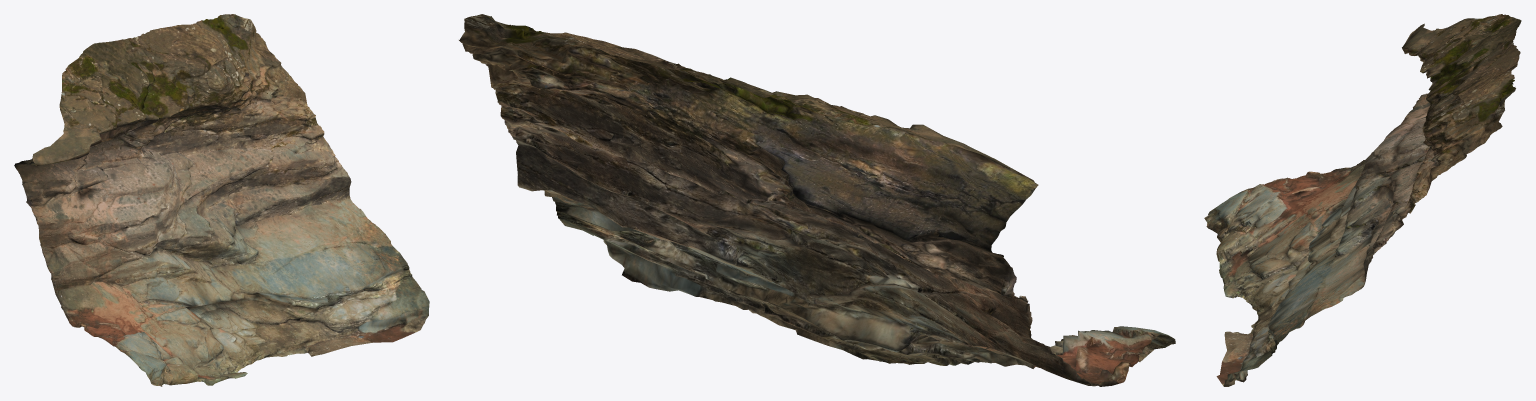
The model's file is rock_face.glb.
3 renders of one model, left to right at view 1: azimuth 30°, elevation 25°; view 2: azimuth 150°, elevation 25°; view 3: azimuth 270°, elevation 25°, orthographic. The views are drawn at different scales.
Visible parts, largest first — view 1: rock_face_01; view 2: rock_face_01; view 3: rock_face_01.
Boxes of the visible parts, bbox=[...] form: rock_face_01: bbox=[14, 14, 429, 386]; rock_face_01: bbox=[459, 14, 1175, 386]; rock_face_01: bbox=[1204, 14, 1521, 386].
Size of the model in its own units: 4.95 by 3.57 by 3.83.
1 material, 1 textured.
